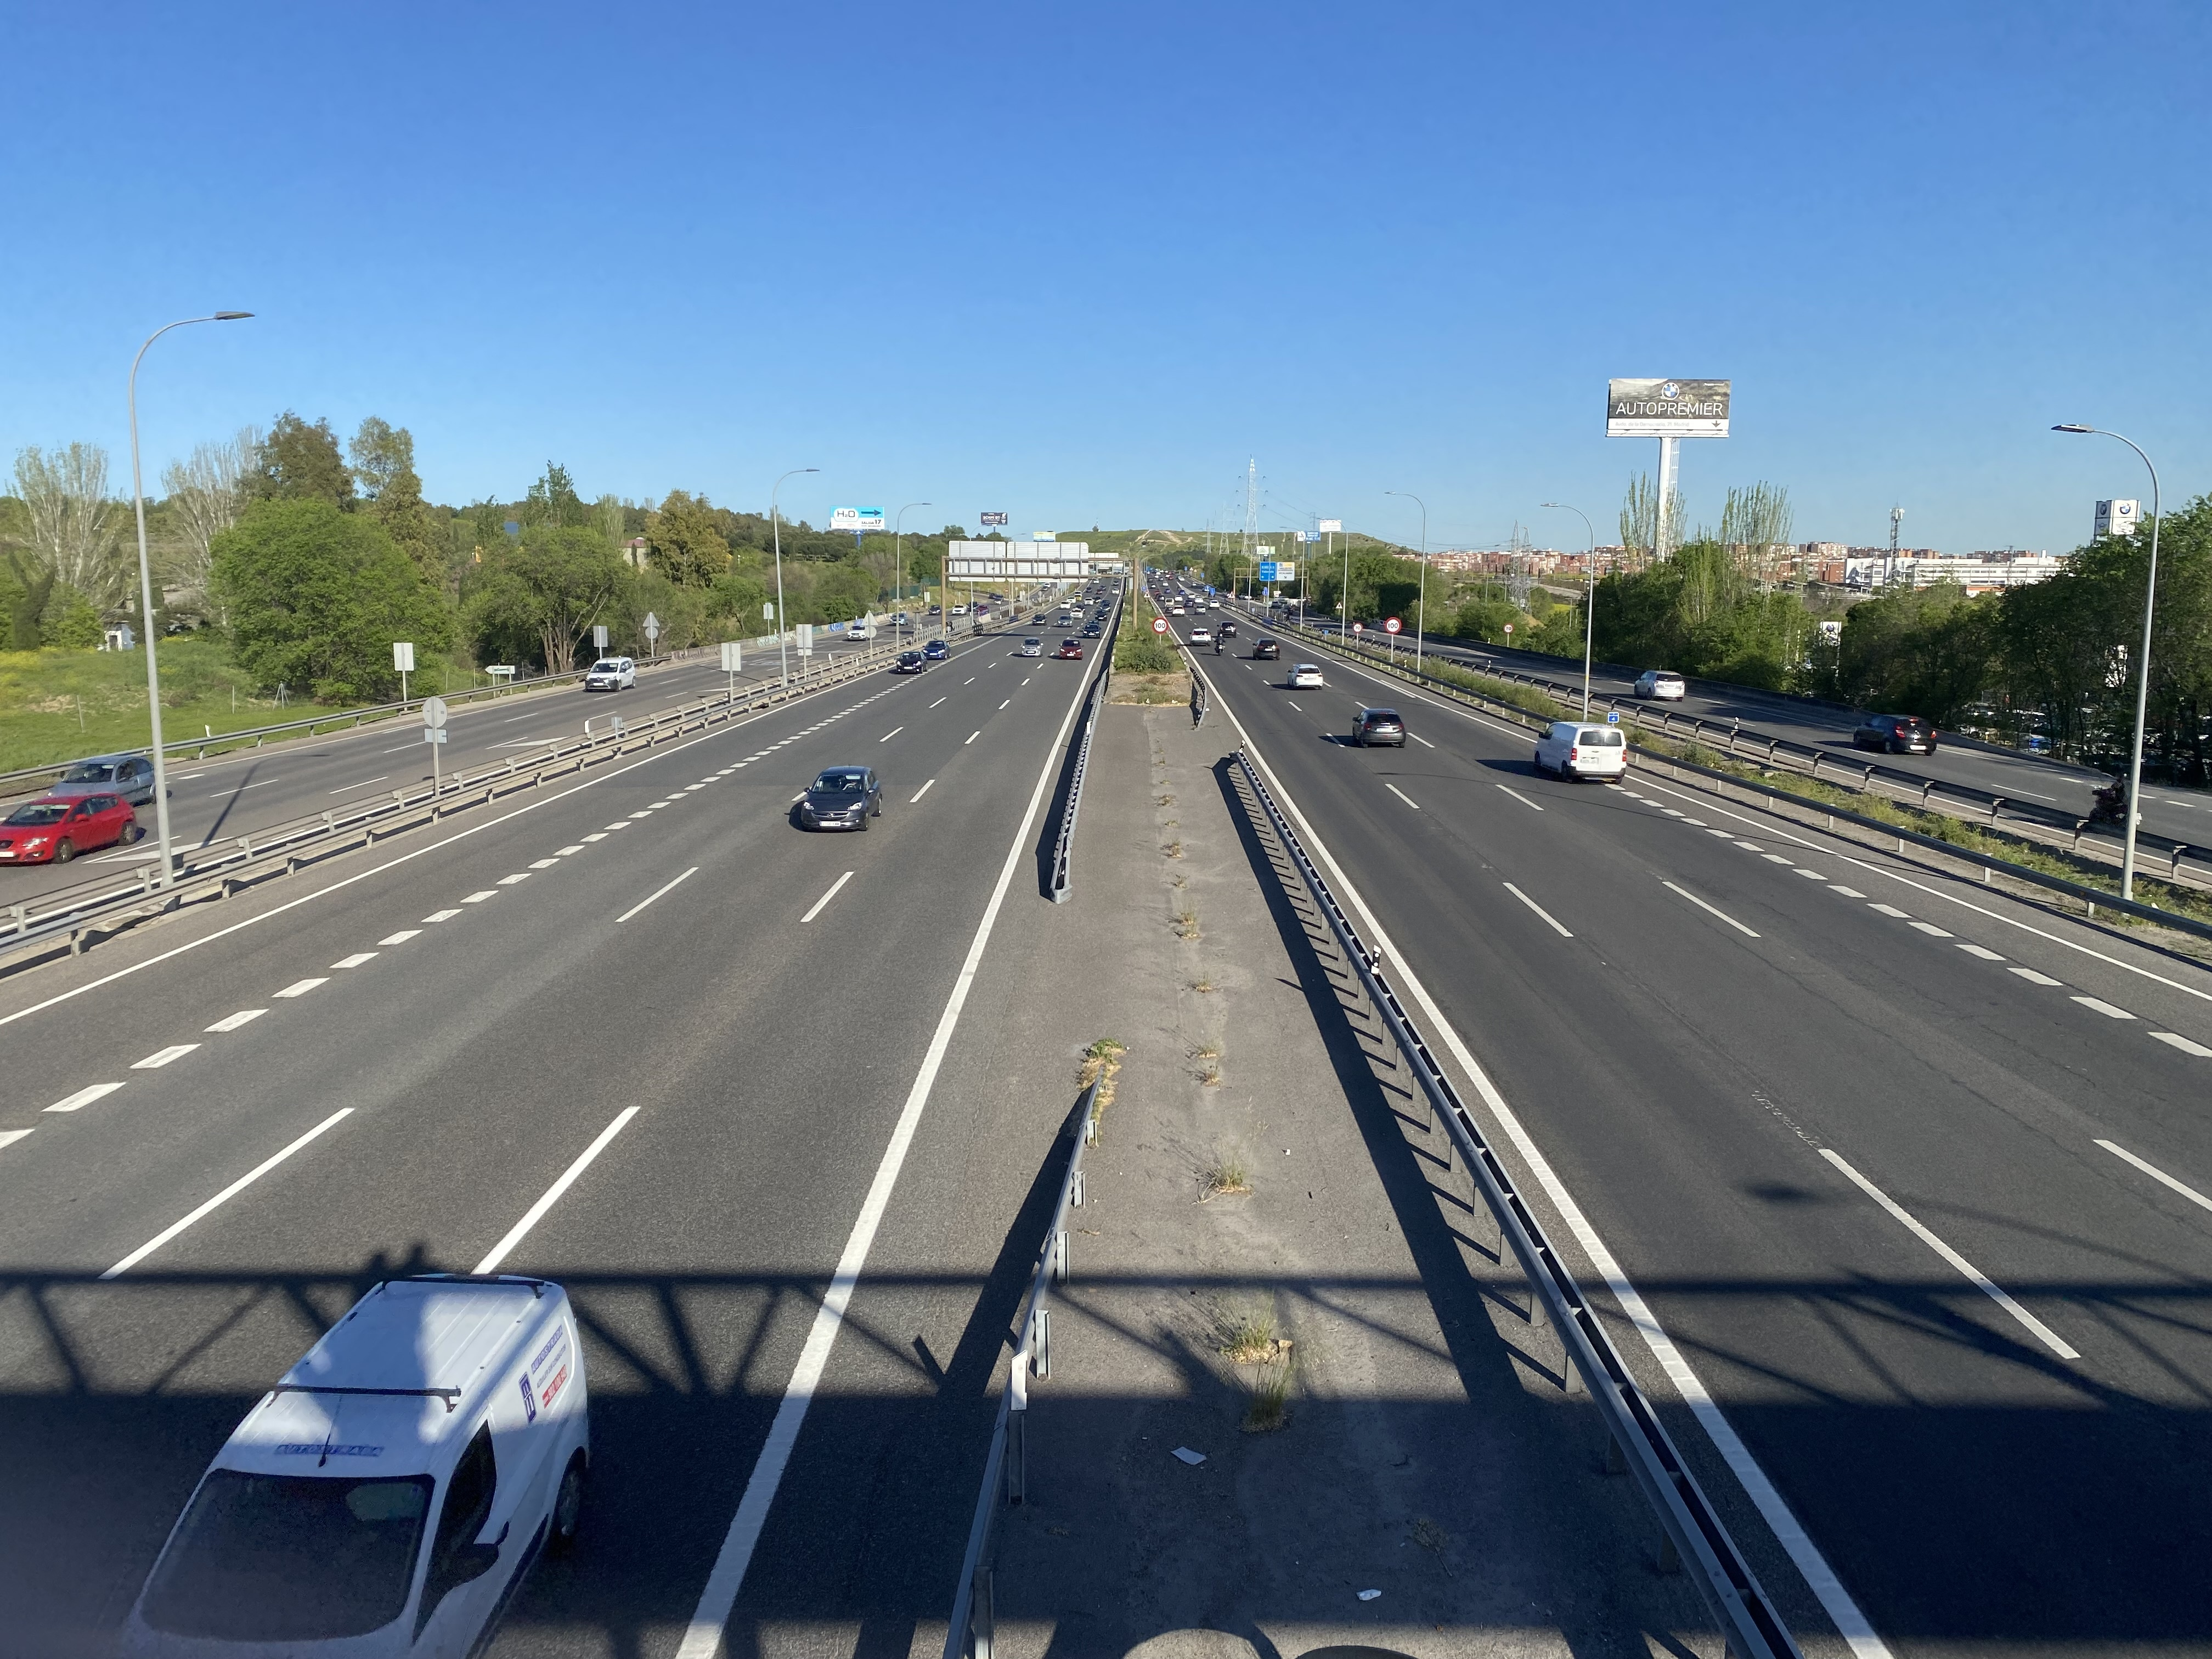cars: (122, 1274, 589, 1656), (0, 793, 141, 863), (789, 765, 881, 830), (1534, 721, 1627, 782), (52, 751, 155, 805), (1853, 714, 1937, 755), (1352, 704, 1406, 746), (583, 657, 636, 692), (1634, 671, 1686, 701), (892, 648, 927, 674), (1287, 664, 1324, 688), (845, 617, 876, 641), (1054, 638, 1083, 660), (1252, 638, 1280, 660), (925, 638, 949, 660), (1015, 638, 1042, 657), (1188, 627, 1212, 647), (1219, 620, 1237, 638)
